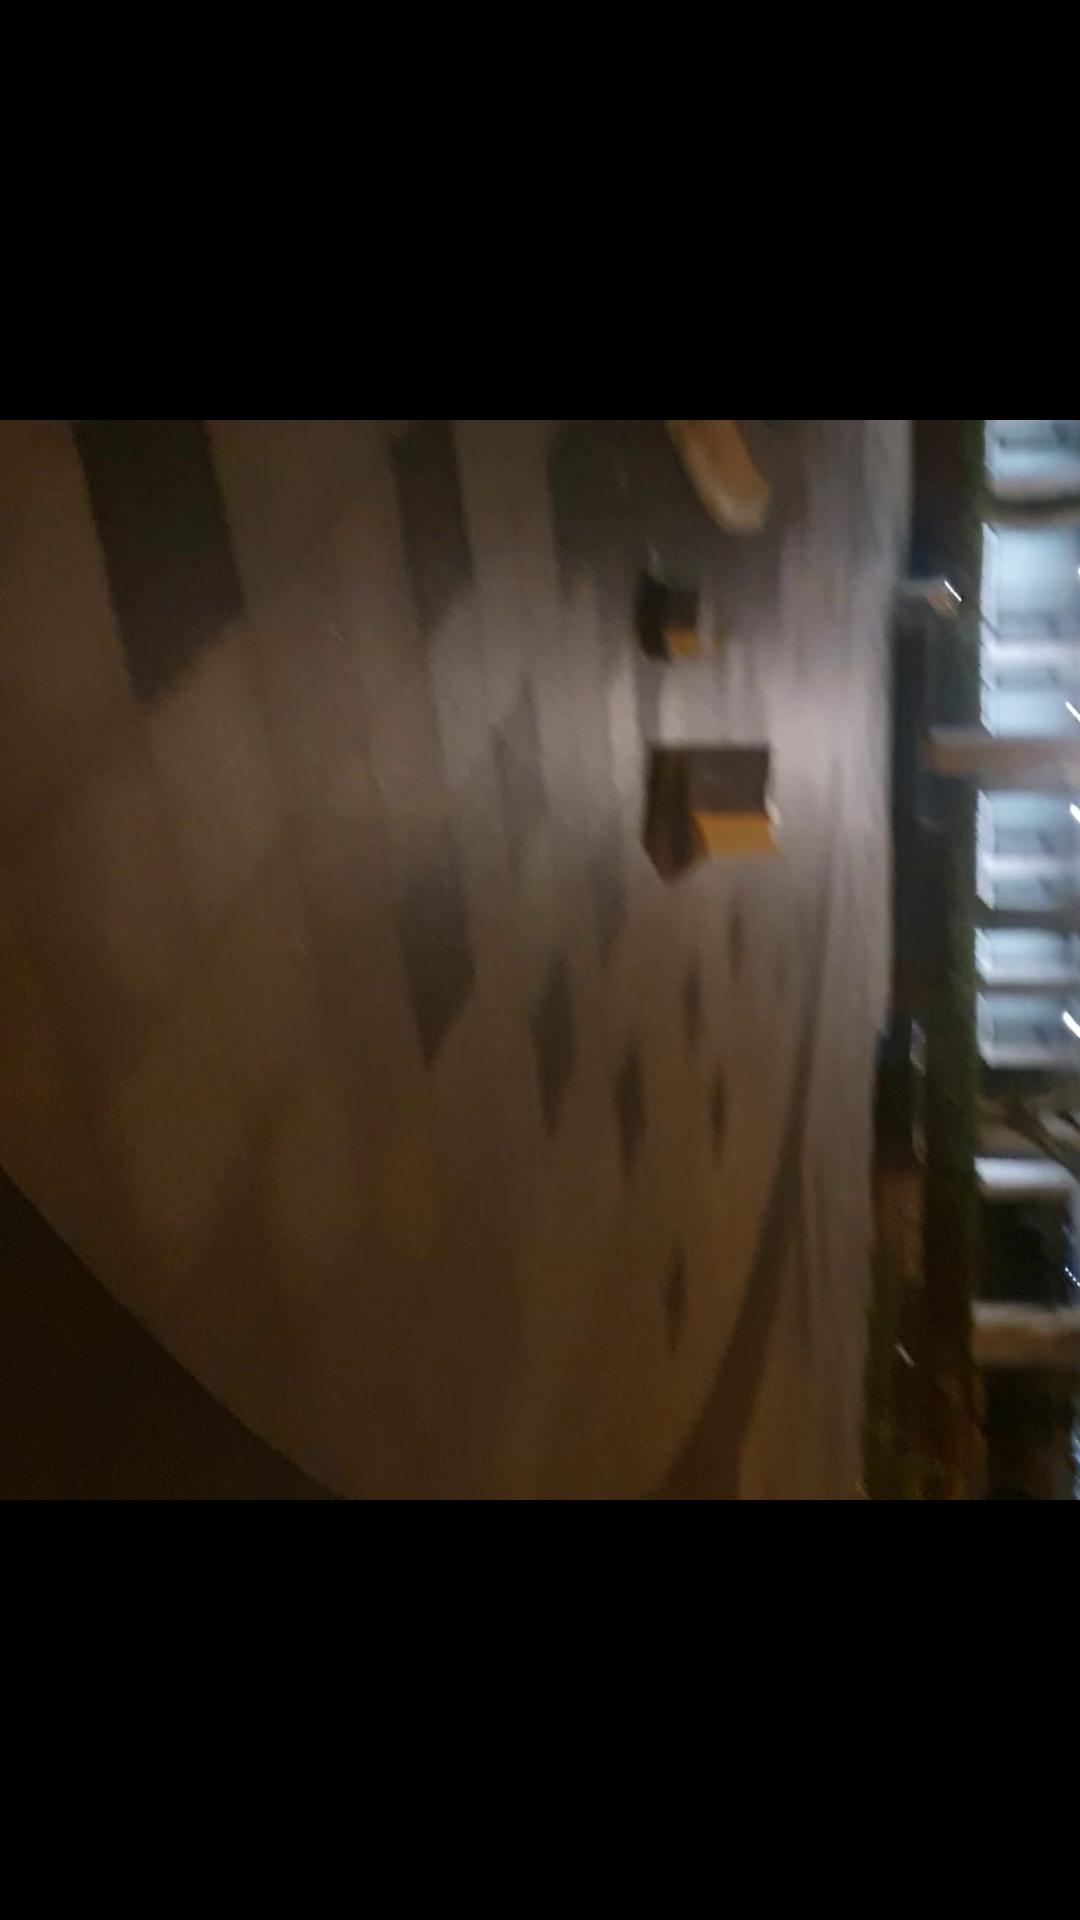Box: (662, 731, 787, 873), (640, 583, 709, 665)
